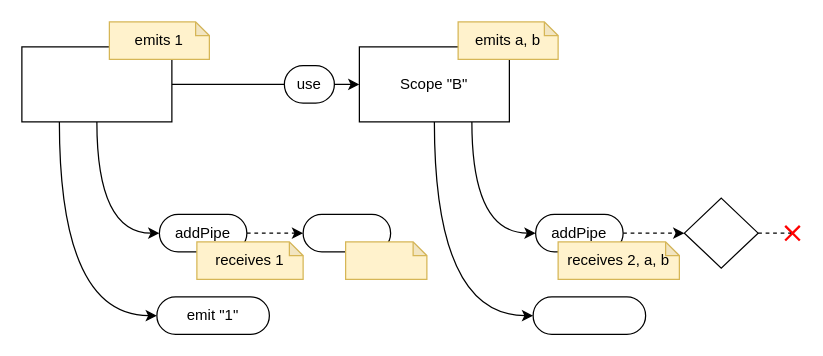
Some shapes in this 823 by 356 pixel diagram are drawn without their labels. Here are the shapes that lost their labels. From the top down, the centre of each, then its label:
point (96, 84): Scope "A"
point (346, 232): value * 2
point (720, 232): equal to 2
point (385, 260): return 2
point (589, 315): emit "b"
